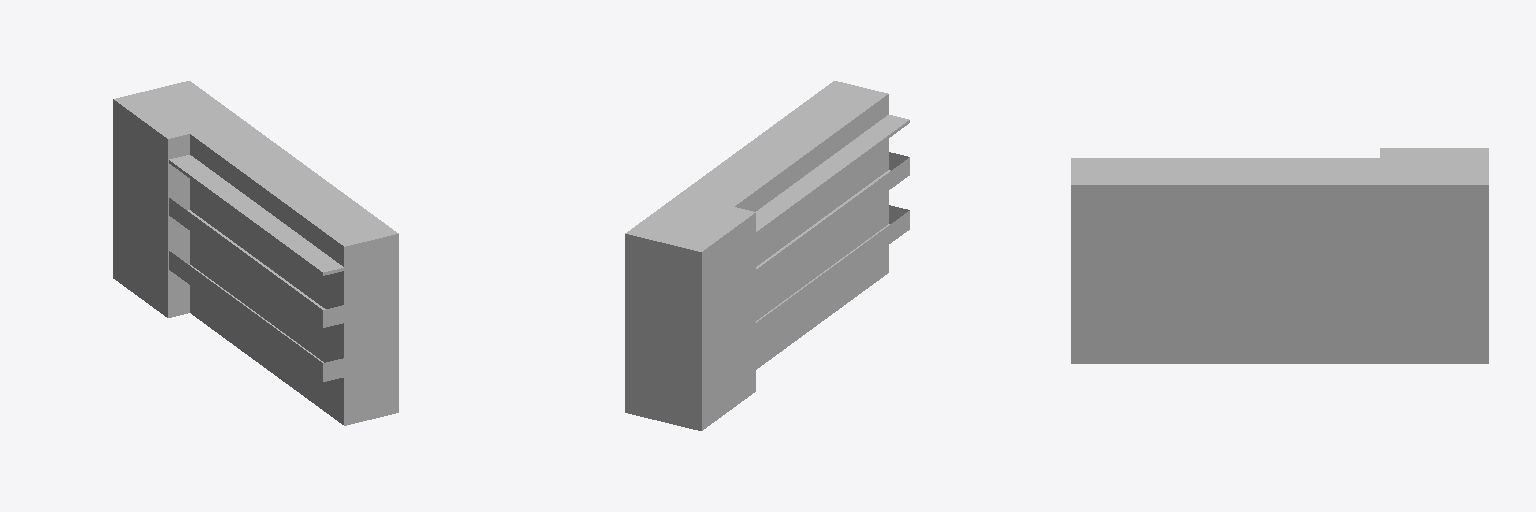
File: aulas2.obj
3 views of the same model, side by side, from view 1: azimuth 30°, elevation 25°; view 2: azimuth 150°, elevation 25°; view 3: azimuth 270°, elevation 25° (orthographic).
Bounding box in the file's own units: 2.8 × 6.28 × 13.28.